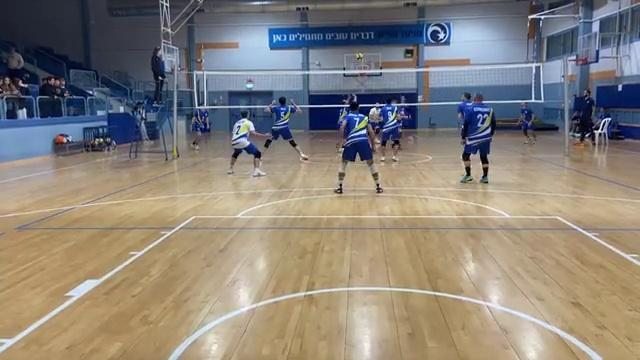ball: (353, 50, 366, 62)
